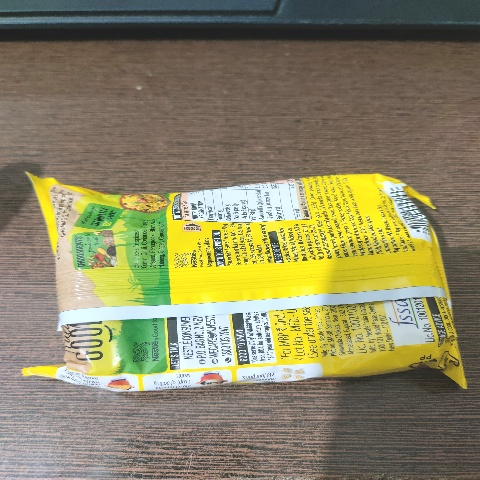maggi: (17, 162, 469, 435)
